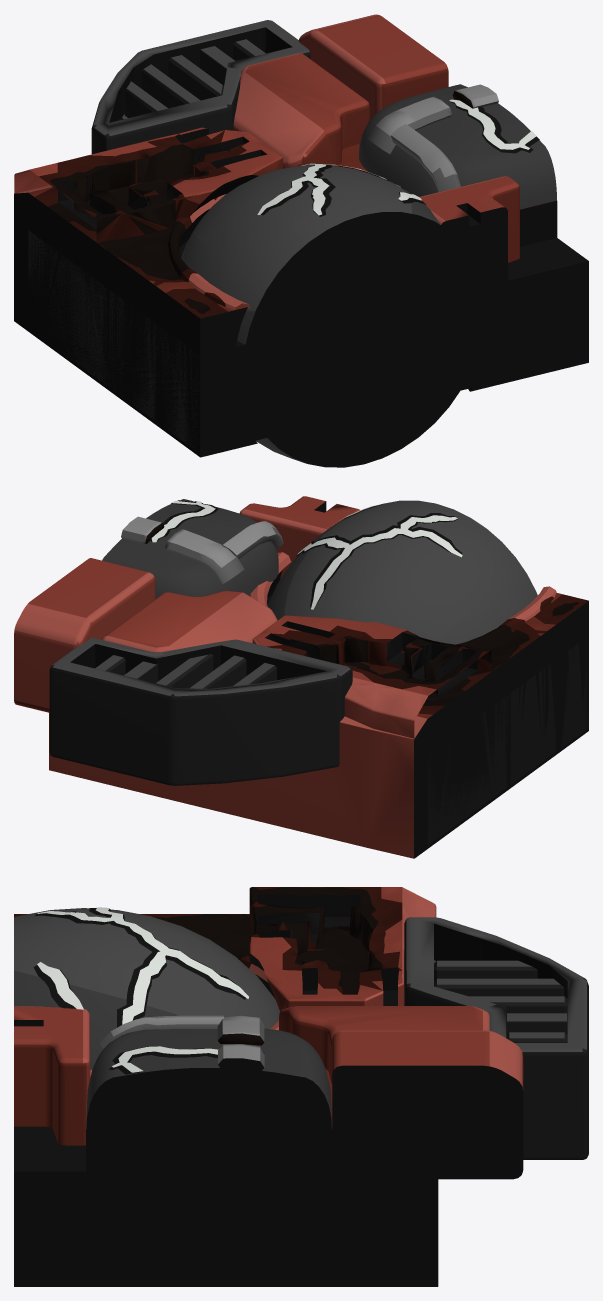
The model's file is deli_boss_119.glb.
The picture shows the model from 3 angles, top to bottom: view 1: azimuth 30°, elevation 25°; view 2: azimuth 150°, elevation 25°; view 3: azimuth 270°, elevation 25°; orthographic projection. The views are drawn at different scales.
Visible parts, largest first — view 1: deli_boss_119; view 2: deli_boss_119; view 3: deli_boss_119.
Part boxes in pixels (x1=…): deli_boss_119: x1=14, y1=14, x2=588, y2=467; deli_boss_119: x1=14, y1=496, x2=588, y2=858; deli_boss_119: x1=14, y1=887, x2=588, y2=1286.
Bounding box in the file's own units: 24 × 15.67 × 27.1.
